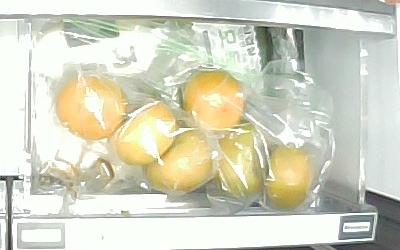persimmon_vinyl: (56, 75, 129, 142), (146, 131, 219, 195), (213, 119, 265, 200), (112, 101, 175, 166), (184, 70, 244, 132), (265, 144, 313, 209)
